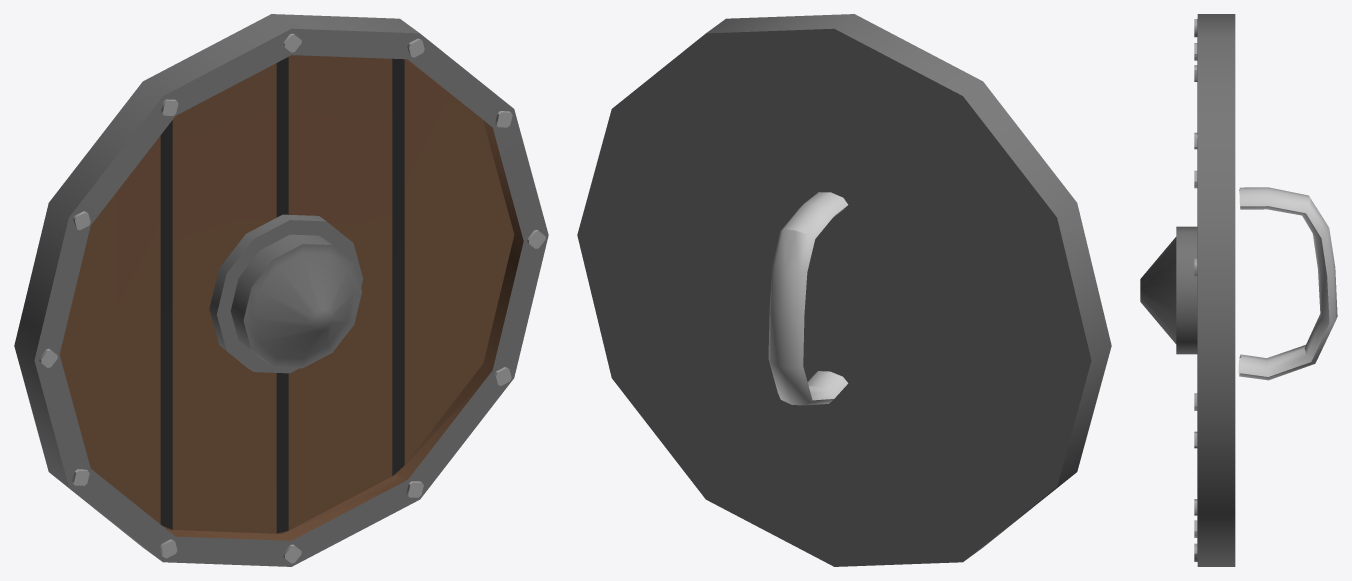
Rendered from Sheild_4.fbx.
The picture shows the model from 3 angles, left to right: view 1: azimuth 30°, elevation 25°; view 2: azimuth 150°, elevation 25°; view 3: azimuth 270°, elevation 25°; orthographic projection. The views are drawn at different scales.
Visible parts, largest first — view 1: Sheild_4; view 2: Sheild_4; view 3: Sheild_4.
Part boxes in pixels (left/top/right/bottom): Sheild_4: left=14, top=14, right=548, bottom=566; Sheild_4: left=577, top=14, right=1111, bottom=566; Sheild_4: left=1140, top=14, right=1337, bottom=566.
Size of the model in its own units: 0.3159 by 0.3159 by 0.1122.
